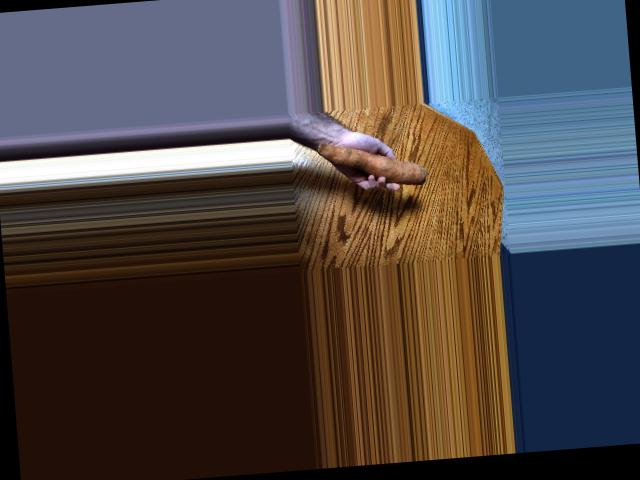sweet_potato: (319, 134, 429, 194)
